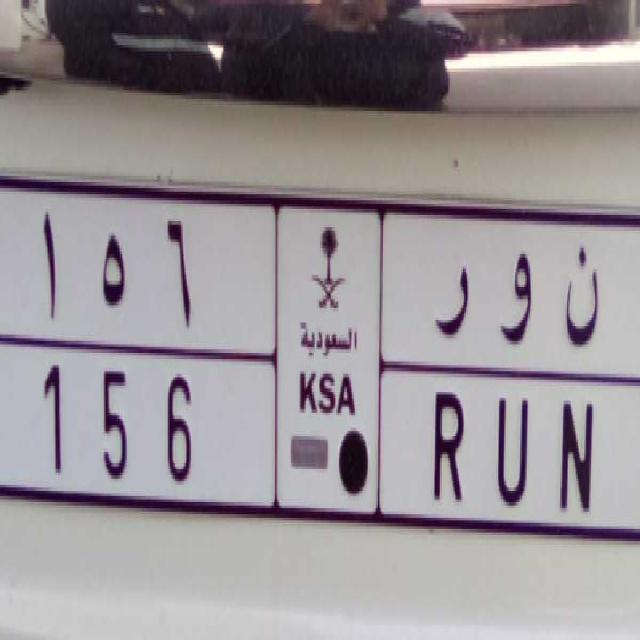license_plate: (4, 348, 630, 529)
